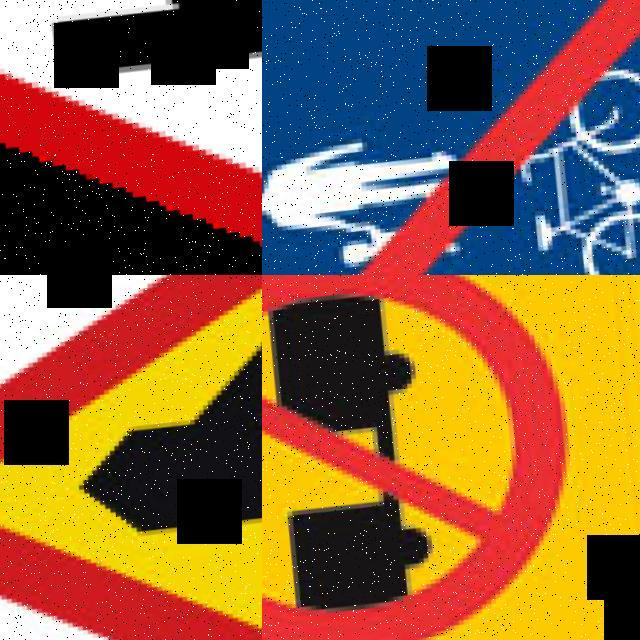112: (262, 0, 640, 275)
166: (0, 275, 262, 640)
82: (262, 275, 640, 640)
Oblique side road junction: (0, 0, 262, 275)
